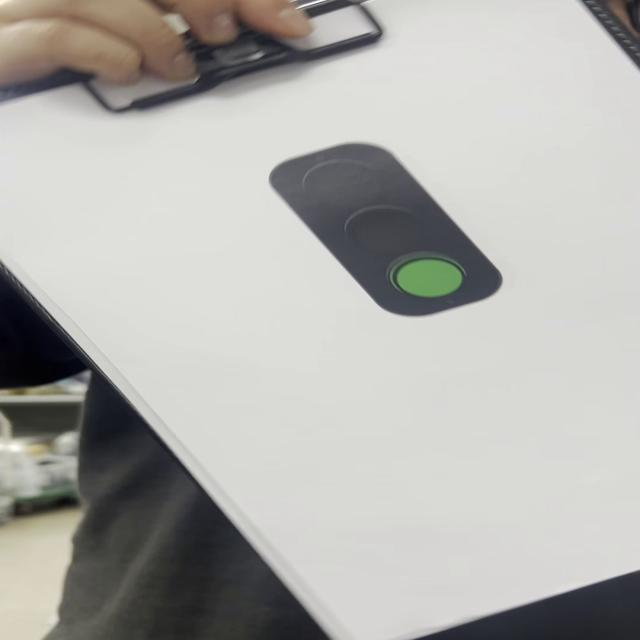green: (267, 142, 504, 318)
